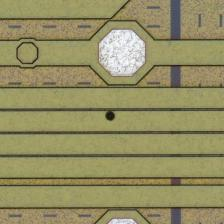PARTICLE: (103, 109, 119, 125)
